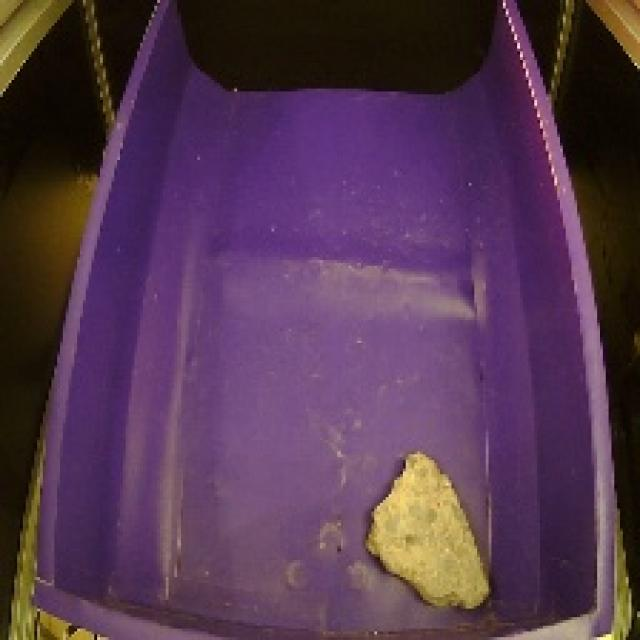china: (357, 437, 501, 621)
